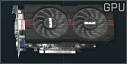Graphics card: (0, 0, 127, 64)
